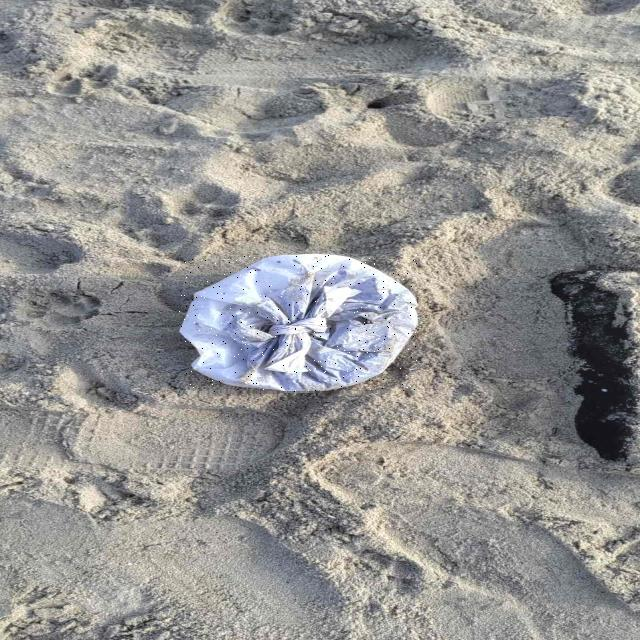plastic: (179, 254, 417, 392)
